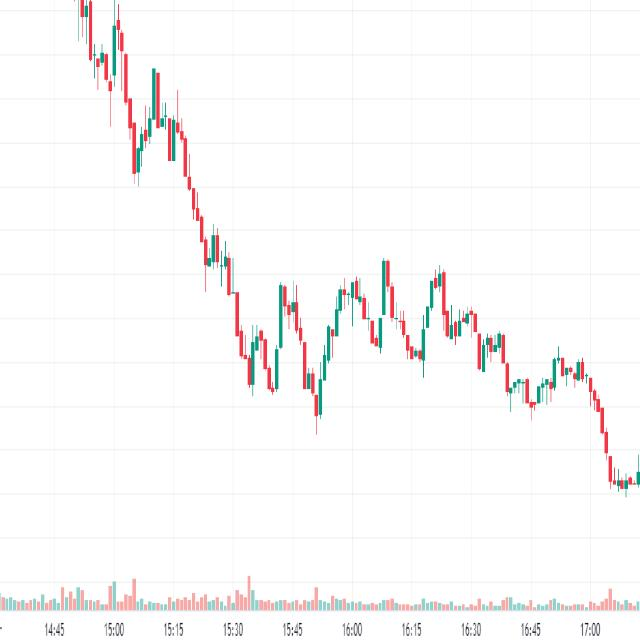Channel-down: (417, 249, 553, 445)
Double-Bottom: (216, 244, 299, 405)
Double-Top: (316, 244, 424, 422)
